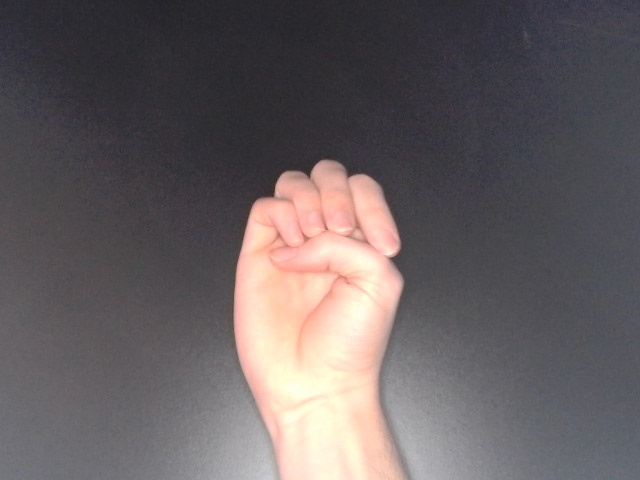e: (223, 156, 409, 431)
